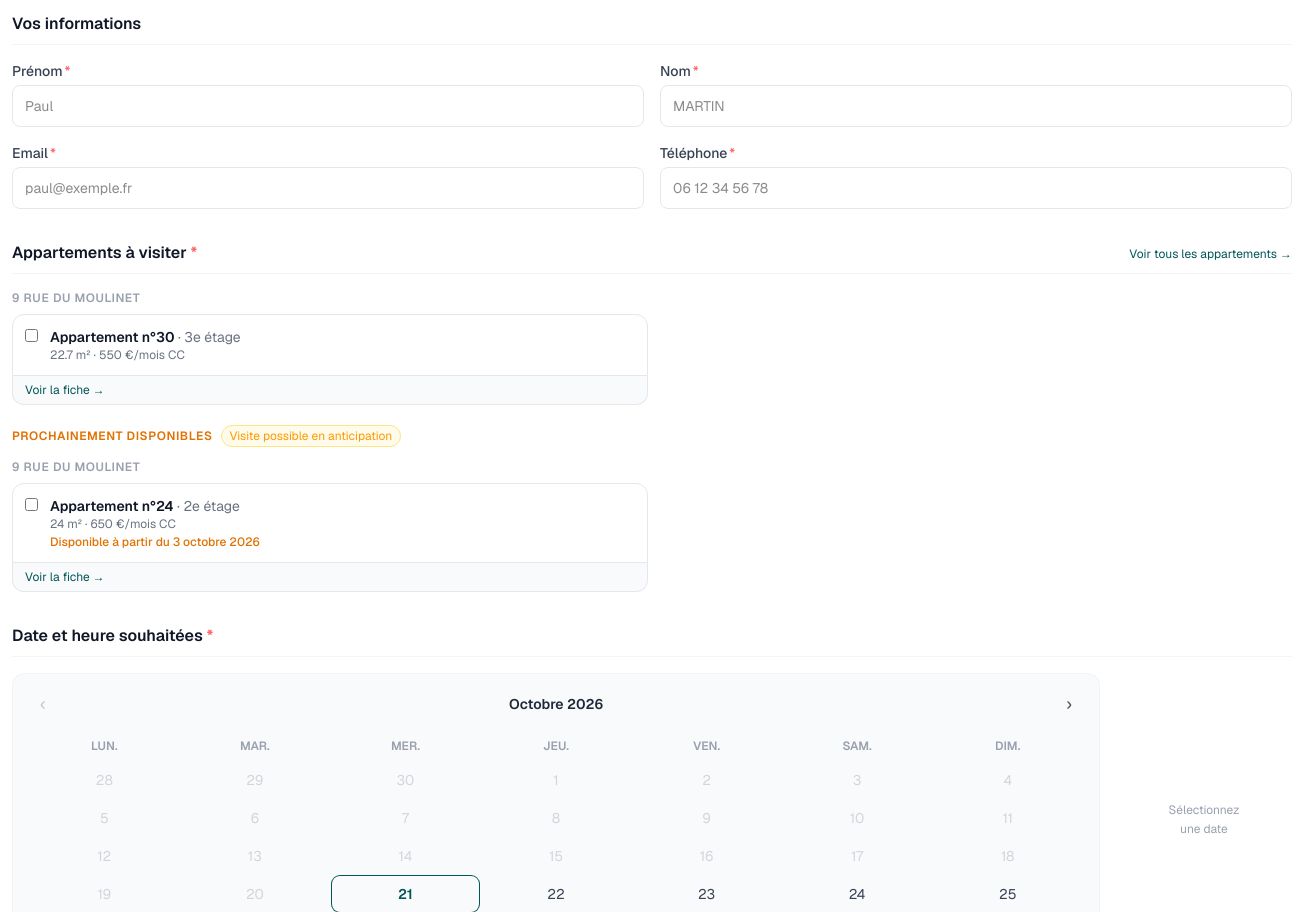
VisitorForm — sélection d'appartement et créneau › charge les créneaux disponibles au clic sur une date
Click the button "21". click: (405, 894)
box: [332,876,479,911]
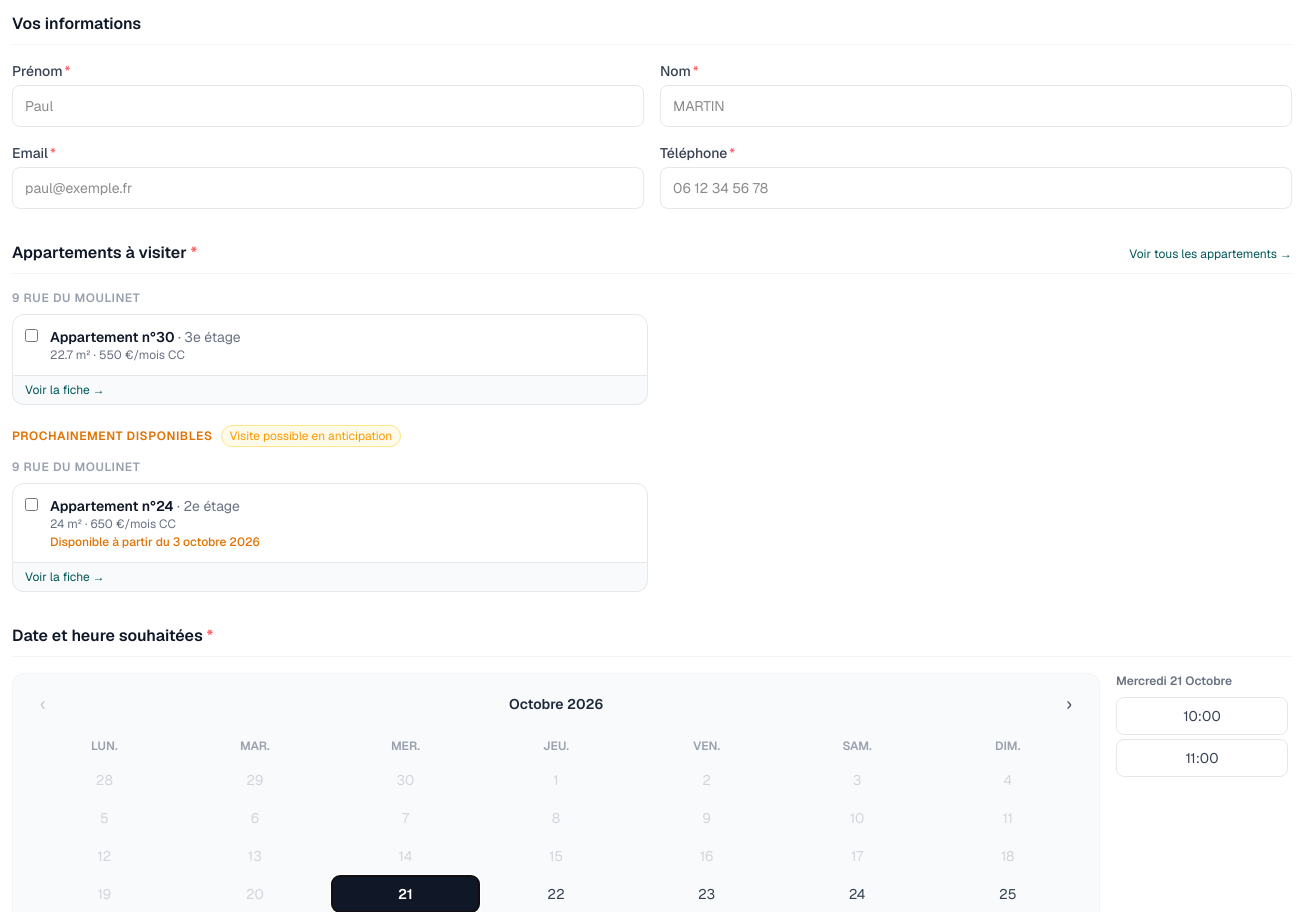
Expected: the button "10:00" is shown, [1116,697,1288,735]
